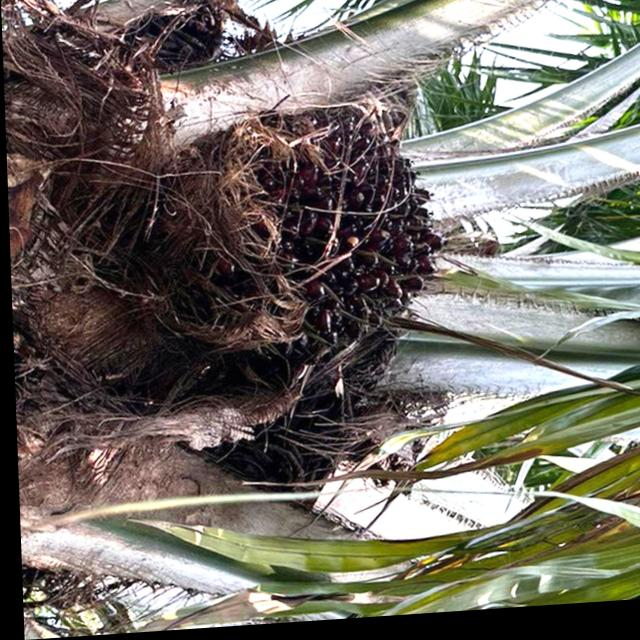ripe: (251, 114, 445, 388)
